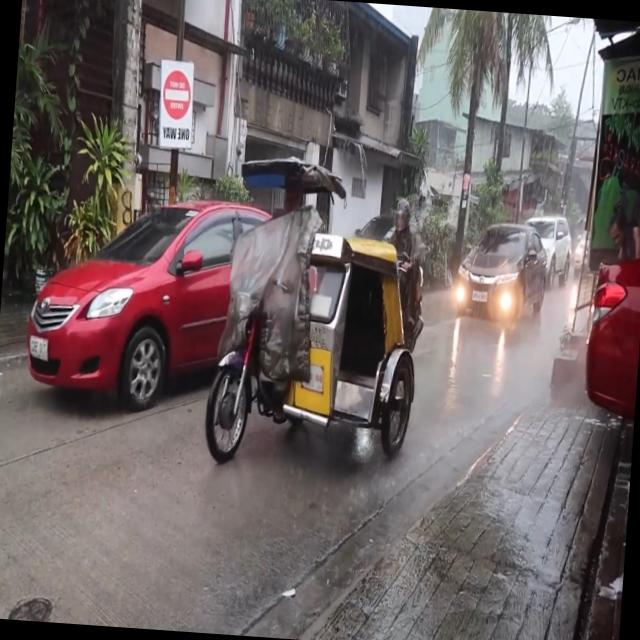half: (388, 197, 412, 234)
